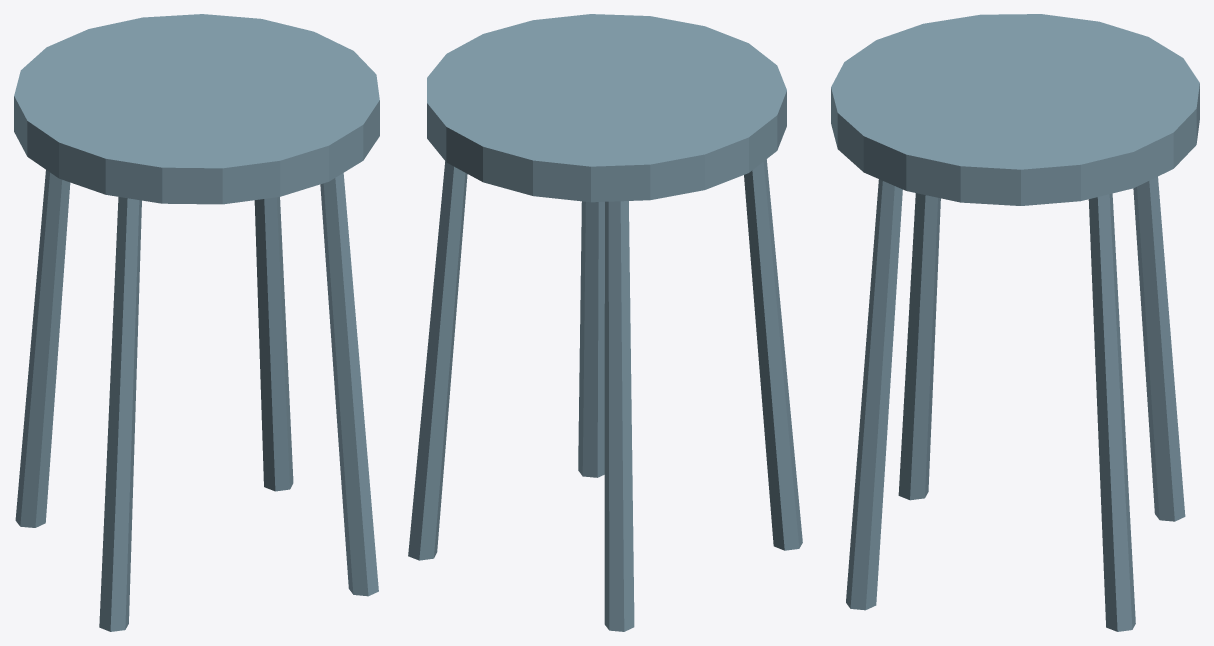
The model's file is kitchen chair.fbx.
3 renders of one model, left to right at view 1: azimuth 30°, elevation 25°; view 2: azimuth 150°, elevation 25°; view 3: azimuth 270°, elevation 25°, orthographic. The views are drawn at different scales.
Visible parts, largest first — view 1: kitchen chair; view 2: kitchen chair; view 3: kitchen chair.
Part boxes in pixels (bbox=[...]): kitchen chair: bbox=[14, 14, 379, 631]; kitchen chair: bbox=[408, 14, 802, 631]; kitchen chair: bbox=[831, 14, 1199, 631].
Size of the model in its own units: 42.37 by 59.42 by 42.42.
